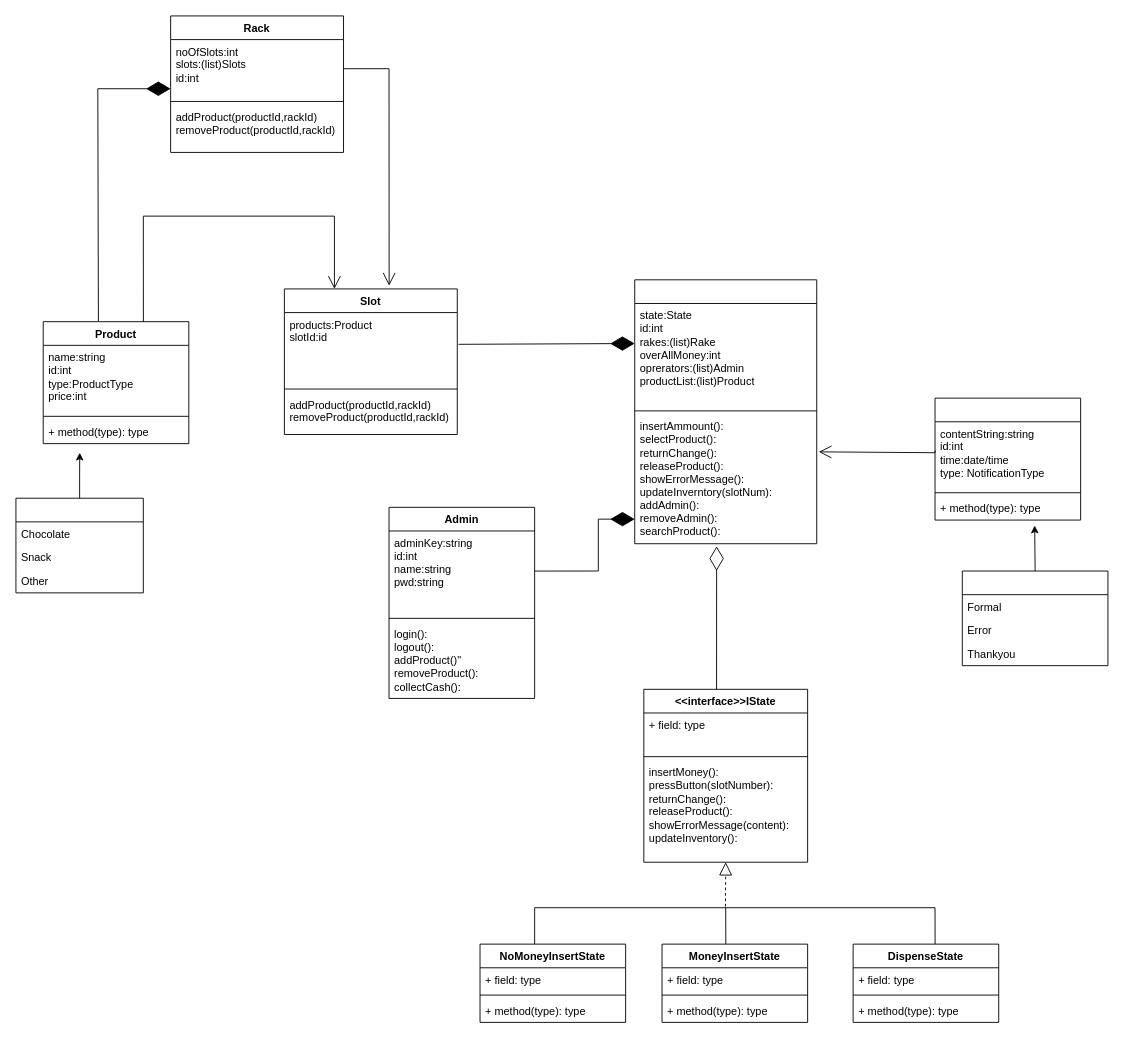
Some shapes in this 1124 by 1041 pixel diagram are drawn without their labels. The shapes that lost their labels are listed below. From the top down, each one's box as (x1, y1, x2, y2) in pixels, then its label:
(634, 279, 817, 544): VendingMachine
(934, 397, 1081, 520): Notofication
(15, 497, 143, 593): <<enum>>ProductType
(961, 570, 1108, 666): <<enum>>NotificationType
